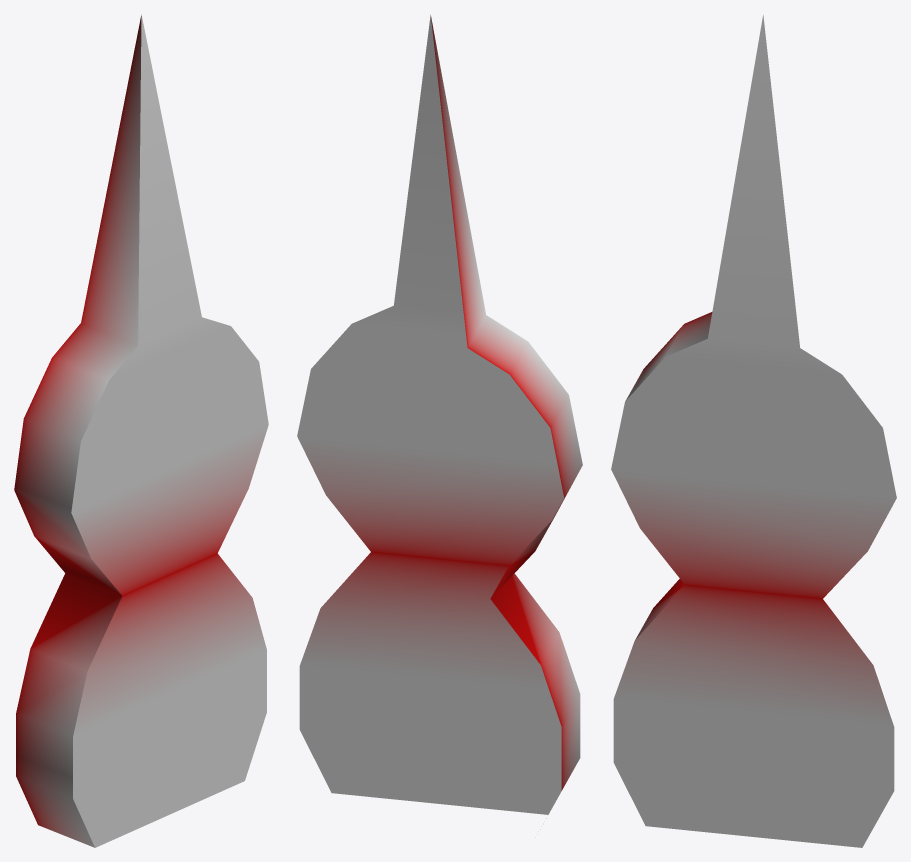
File: tool.obj
3 renders of one model, left to right at view 1: azimuth 30°, elevation 25°; view 2: azimuth 150°, elevation 25°; view 3: azimuth 330°, elevation 25°, orthographic. The views are drawn at different scales.
Visible parts, largest first — view 1: Cube; view 2: Cube; view 3: Cube.
Boxes of the visible parts, x1=… form: Cube: x1=14, y1=14, x2=268, y2=847; Cube: x1=297, y1=15, x2=582, y2=818; Cube: x1=611, y1=15, x2=896, y2=847.
Bounding box in the file's own units: 1.52 × 4.46 × 0.5277.
